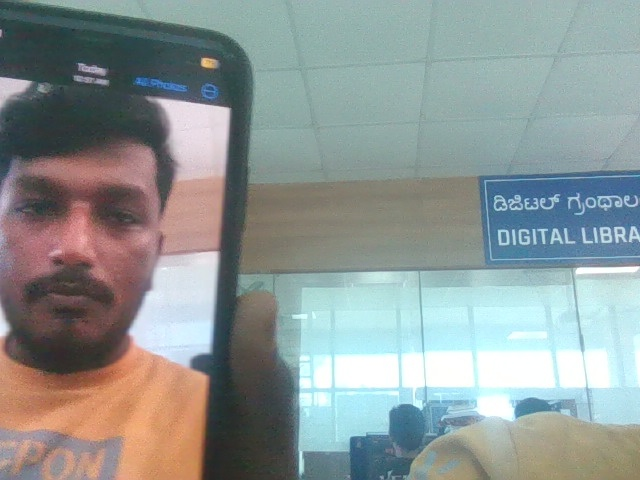fake: (0, 52, 230, 378)
